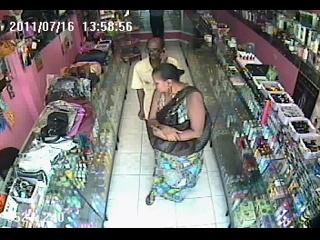Normal: (145, 63, 211, 206), (130, 37, 180, 122), (76, 50, 108, 66)
